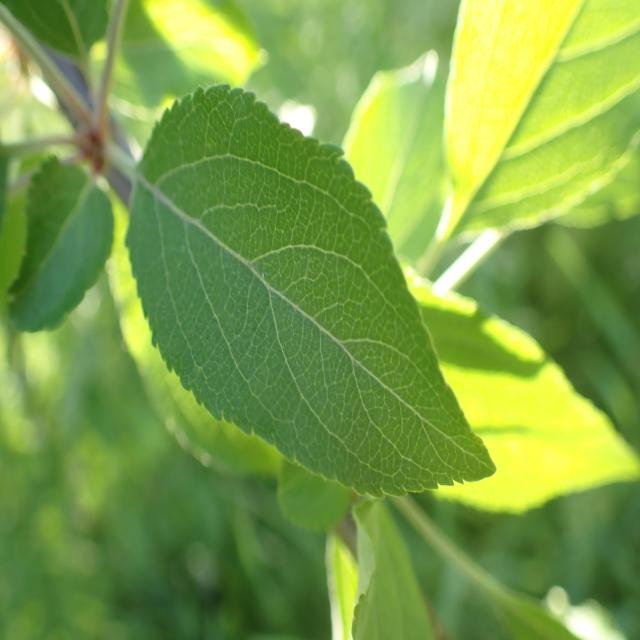healthy: (124, 82, 498, 500), (434, 0, 640, 245), (5, 152, 114, 334)
